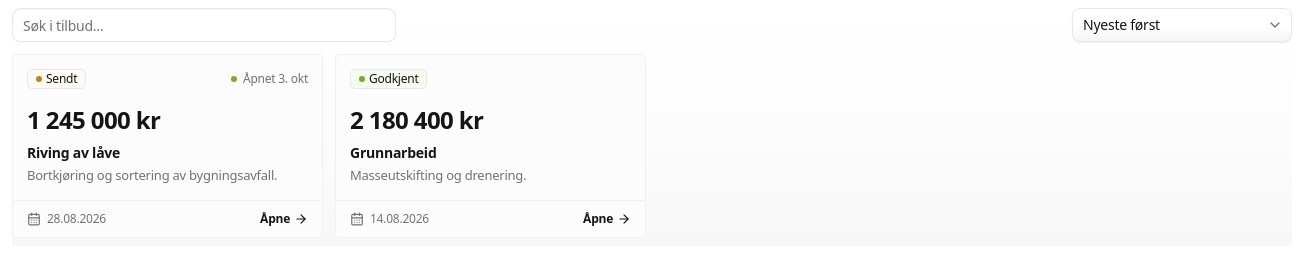
Test: Tilbud-fanen – åpnet av kunden › signalet er ikke søkbart — «åpnet» skal ikke treffe alle sendte tilbud
In the field labelled "Søk i tilbud": [204, 25] box [12,8,396,42], type "åpnet"
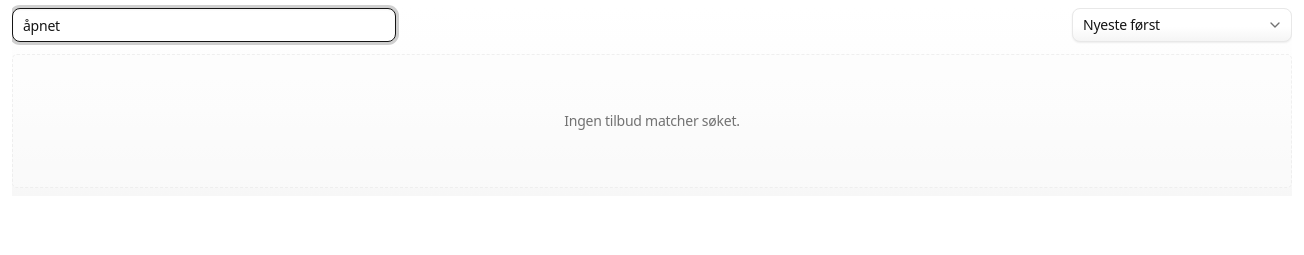
Now no links are shown
Now the text "Ingen tilbud matcher søket." is shown, box [564,111,740,130]
